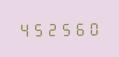five: (31, 20, 44, 37), (60, 19, 73, 36)
four: (17, 20, 30, 37)
six: (74, 19, 87, 36)
two: (46, 20, 59, 37)
zero: (88, 19, 101, 36)
